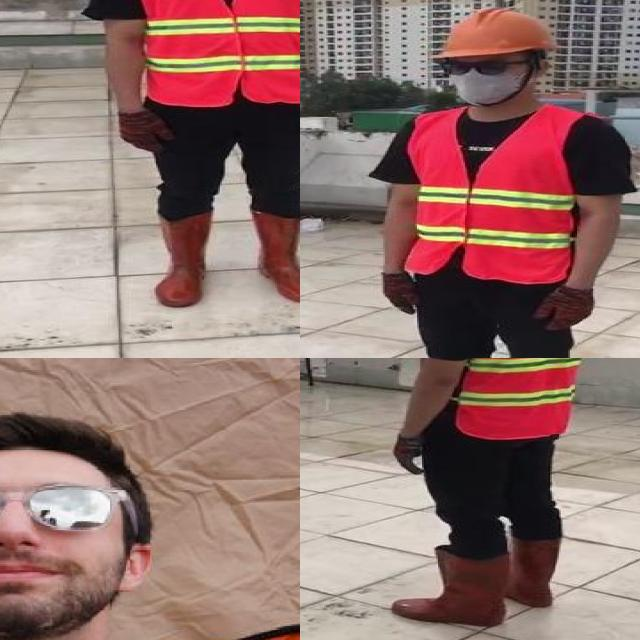No_Ear-Protection: (114, 528, 156, 610)
boots: (393, 551, 511, 626), (151, 213, 209, 306), (248, 207, 300, 302), (498, 539, 560, 607)
face_mask: (435, 54, 525, 107)
face_nomask: (0, 476, 113, 605)
glasses: (0, 472, 147, 534), (434, 54, 517, 80)
hand_glove: (533, 283, 593, 330), (115, 112, 176, 156), (380, 273, 424, 318), (392, 436, 426, 474)
head_helmet: (428, 4, 556, 61)
head_nohelmet: (0, 411, 123, 474)
person: (368, 0, 640, 358), (0, 414, 300, 640), (91, 0, 300, 314), (372, 358, 608, 629)
vest: (399, 108, 581, 282), (127, 0, 300, 106), (452, 358, 592, 438)
